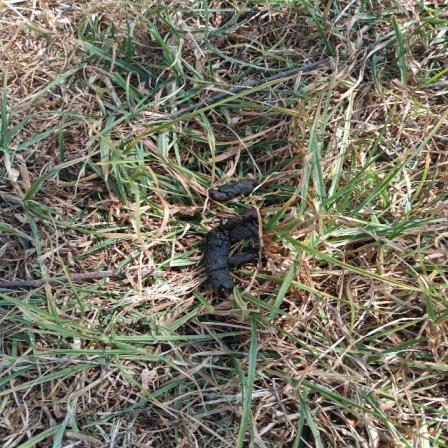dog-poop: (175, 163, 278, 290)
